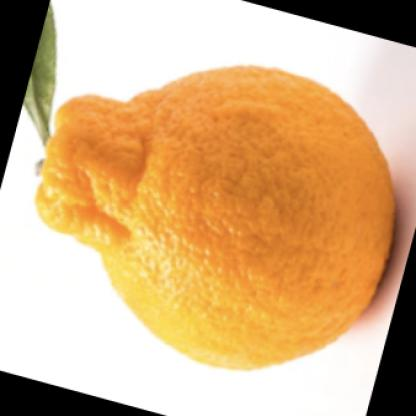orange: (39, 62, 399, 370)
